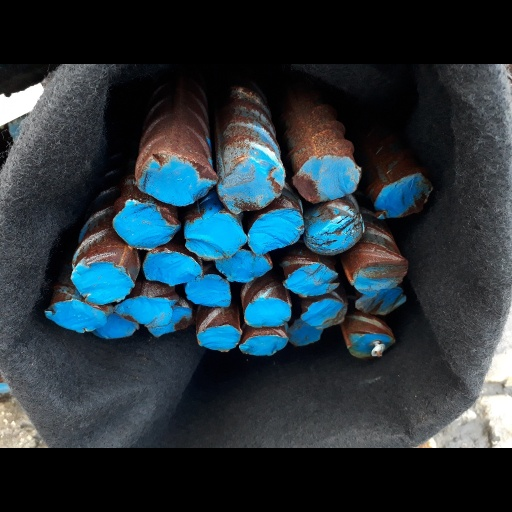dipstick: (136, 153, 218, 208), (219, 156, 286, 213), (111, 199, 181, 249), (292, 154, 361, 203), (186, 212, 247, 261), (304, 205, 363, 255), (247, 207, 305, 256), (375, 171, 433, 219), (70, 262, 136, 304), (43, 298, 106, 333), (142, 250, 201, 285), (281, 263, 340, 297), (353, 259, 408, 295), (213, 250, 274, 282), (113, 295, 174, 325), (183, 273, 232, 309), (242, 296, 293, 328), (146, 304, 193, 337), (298, 298, 347, 329), (353, 287, 407, 315), (344, 332, 395, 360), (239, 333, 290, 359), (196, 323, 240, 353), (92, 313, 139, 339), (288, 318, 324, 346)
